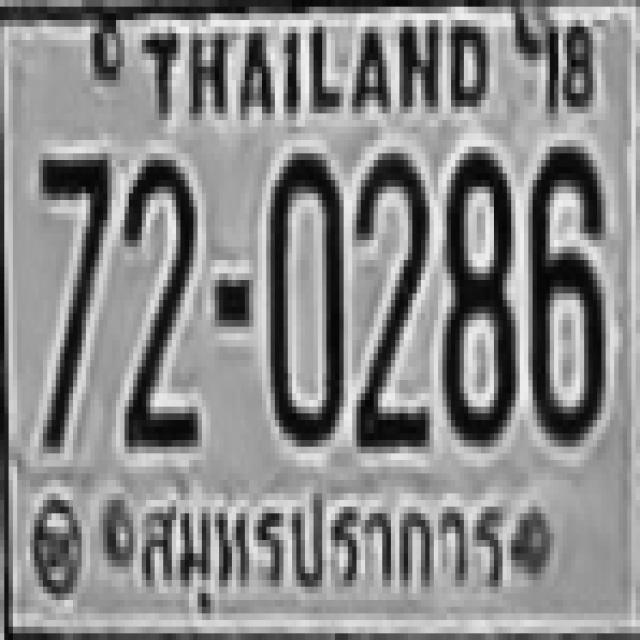0: (266, 147, 340, 440)
2: (120, 153, 193, 447), (352, 150, 425, 443)
6: (528, 140, 602, 440)
7: (39, 153, 107, 447)
8: (438, 147, 511, 440)
SamutPrakan: (117, 474, 511, 606)
